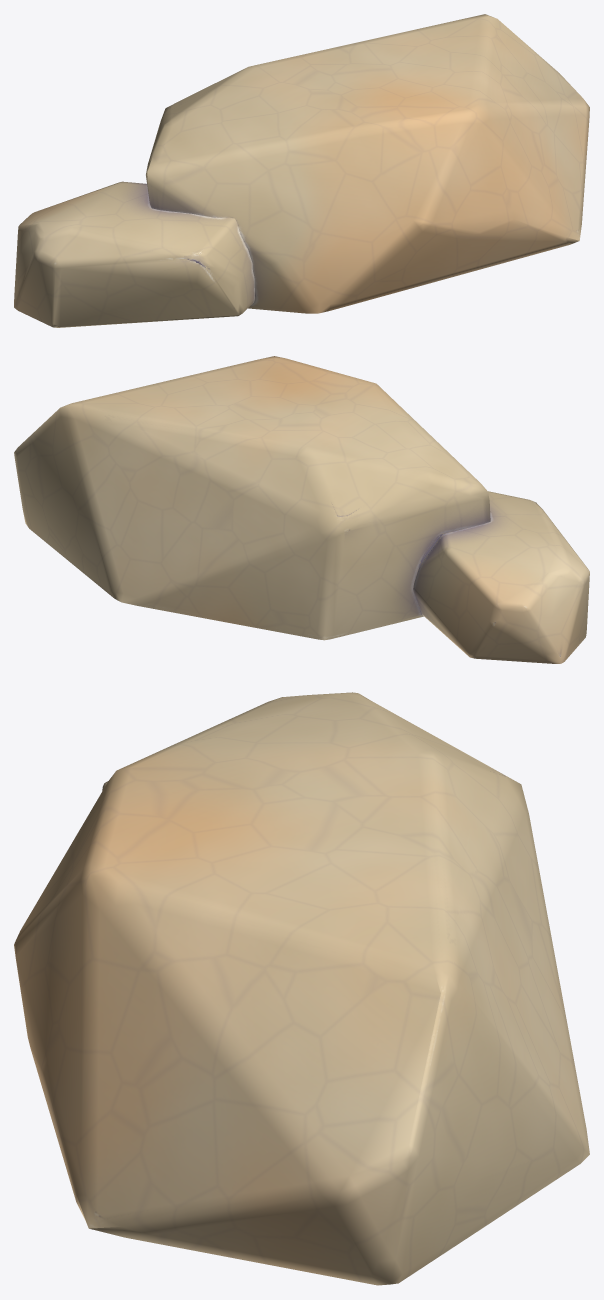
Rendered from RocherCalcaire_C.fbx.
3 views of the same model, one above another, from view 1: azimuth 30°, elevation 25°; view 2: azimuth 150°, elevation 25°; view 3: azimuth 270°, elevation 25° (orthographic). The views are drawn at different scales.
Visible parts, largest first — view 1: RocherCalcaire_C; view 2: RocherCalcaire_C; view 3: RocherCalcaire_C.
Boxes of the visible parts, bbox=[...] form: RocherCalcaire_C: bbox=[14, 14, 589, 327]; RocherCalcaire_C: bbox=[14, 356, 589, 663]; RocherCalcaire_C: bbox=[14, 692, 589, 1285].
Bounding box in the file's own units: 1552 × 451 × 785.
Materials: 1 (1 with a texture image).
